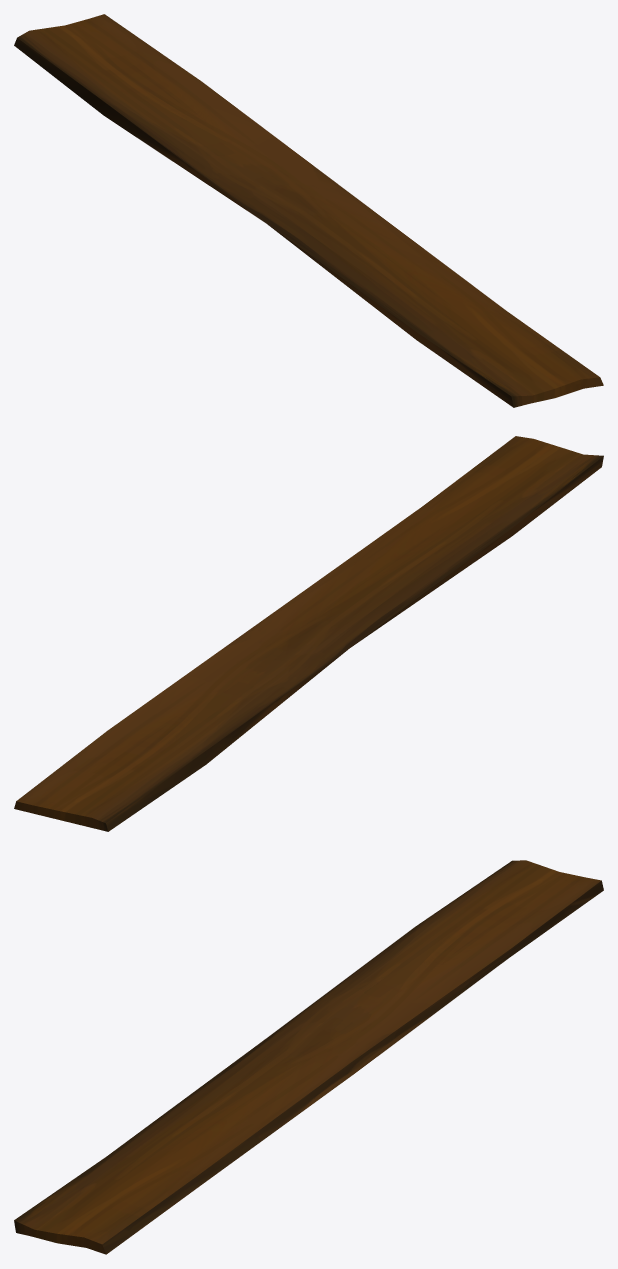
The model's file is Wood_3.fbx.
3 renders of one model, top to bottom at view 1: azimuth 30°, elevation 25°; view 2: azimuth 150°, elevation 25°; view 3: azimuth 330°, elevation 25°, orthographic.
Parts seen in each view (by area): view 1: pasted__pCube2; view 2: pasted__pCube2; view 3: pasted__pCube2.
Boxes of the visible parts, x1,y1,x2,y2 form: pasted__pCube2: (14,14,603,407); pasted__pCube2: (14,436,603,831); pasted__pCube2: (14,860,603,1254).
Bounding box in the file's own units: 105 × 16.04 × 915.
1 material, 1 textured.
